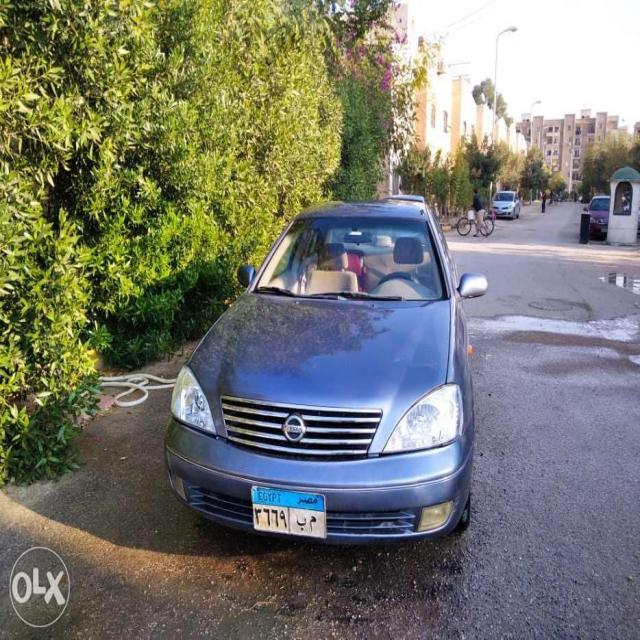License Plate: (249, 485, 329, 542)
